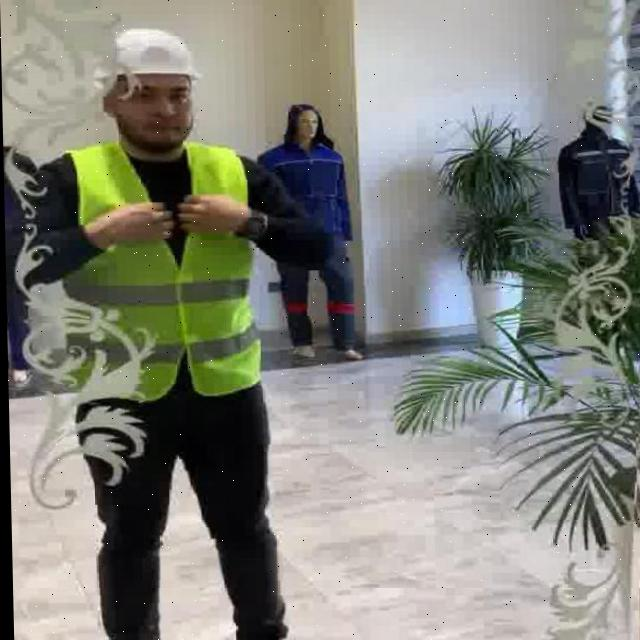No-Glove: (96, 196, 174, 249), (177, 187, 240, 250)
Safety-Vest: (56, 138, 263, 402)
